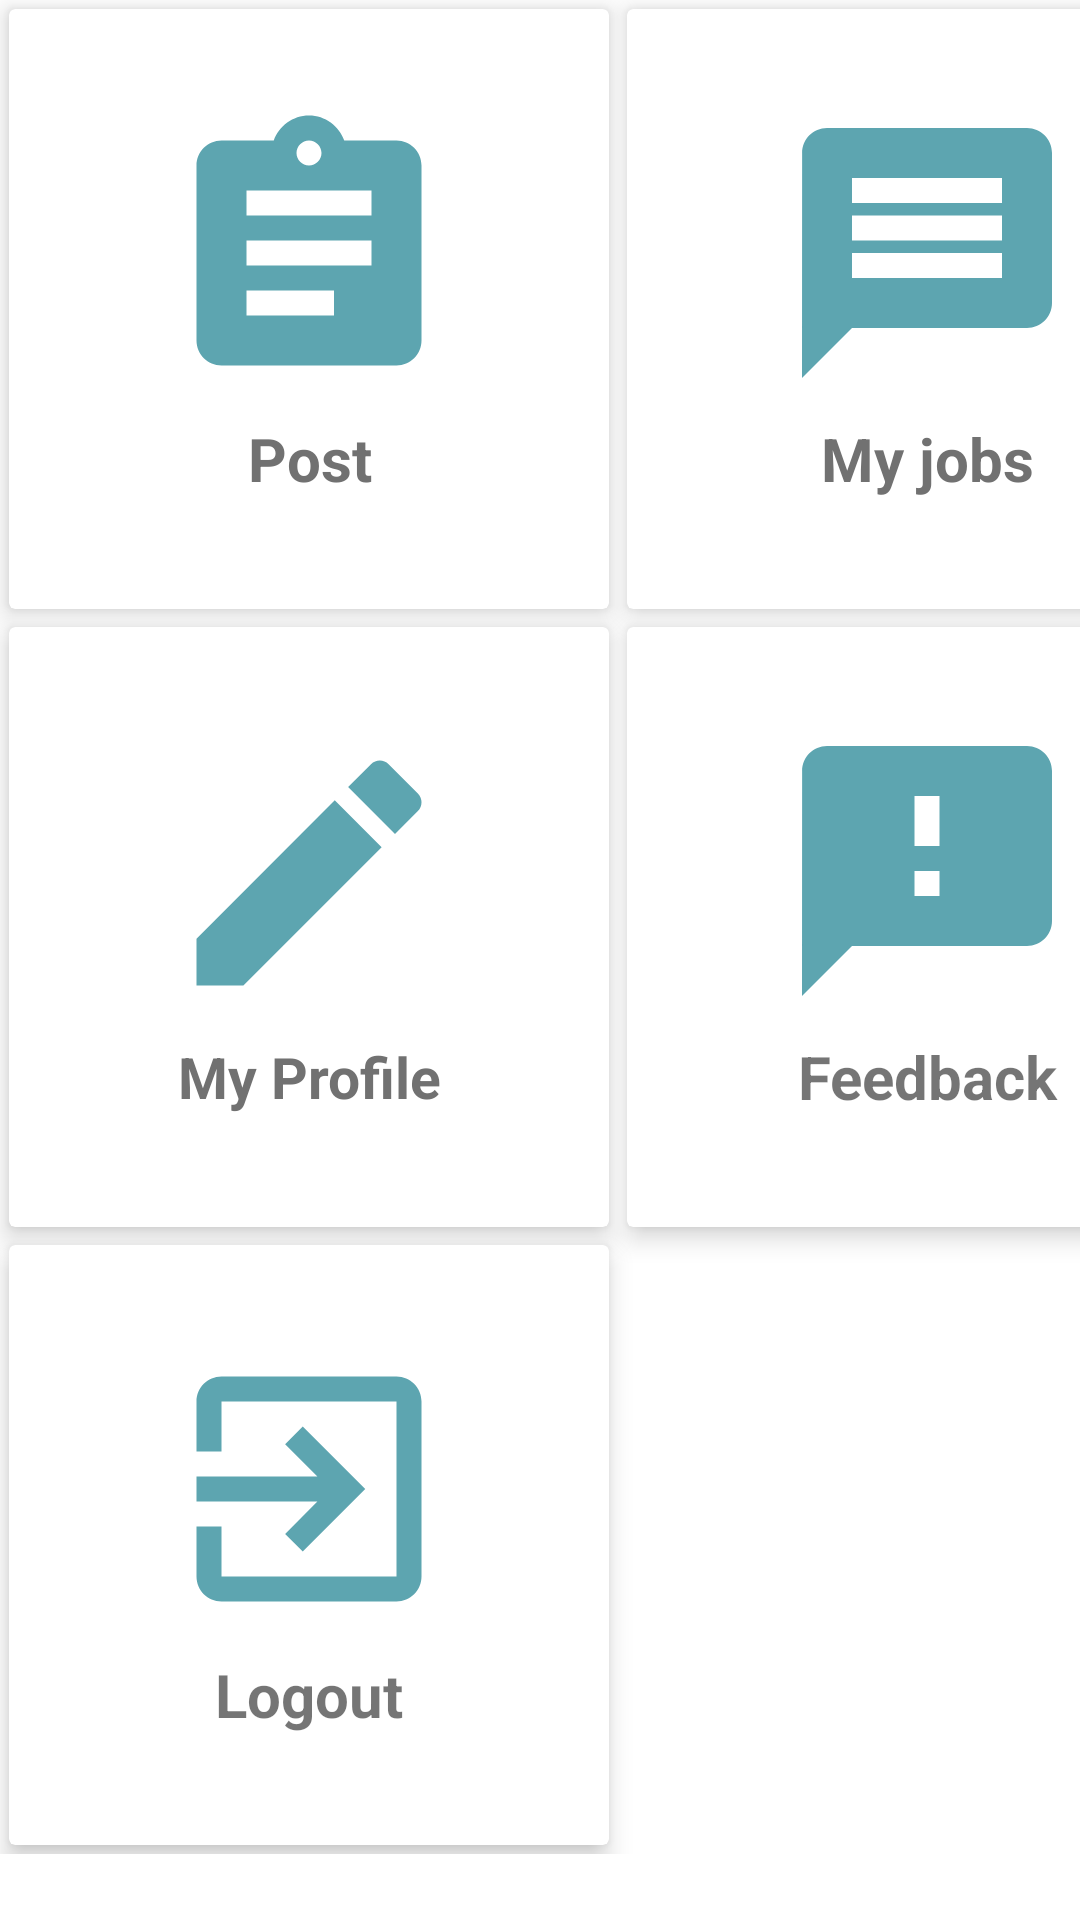

Icon click points for this 1080w x 1920h phone screenshot, format point (x, y):
jobseekeredit: point (309, 873)
